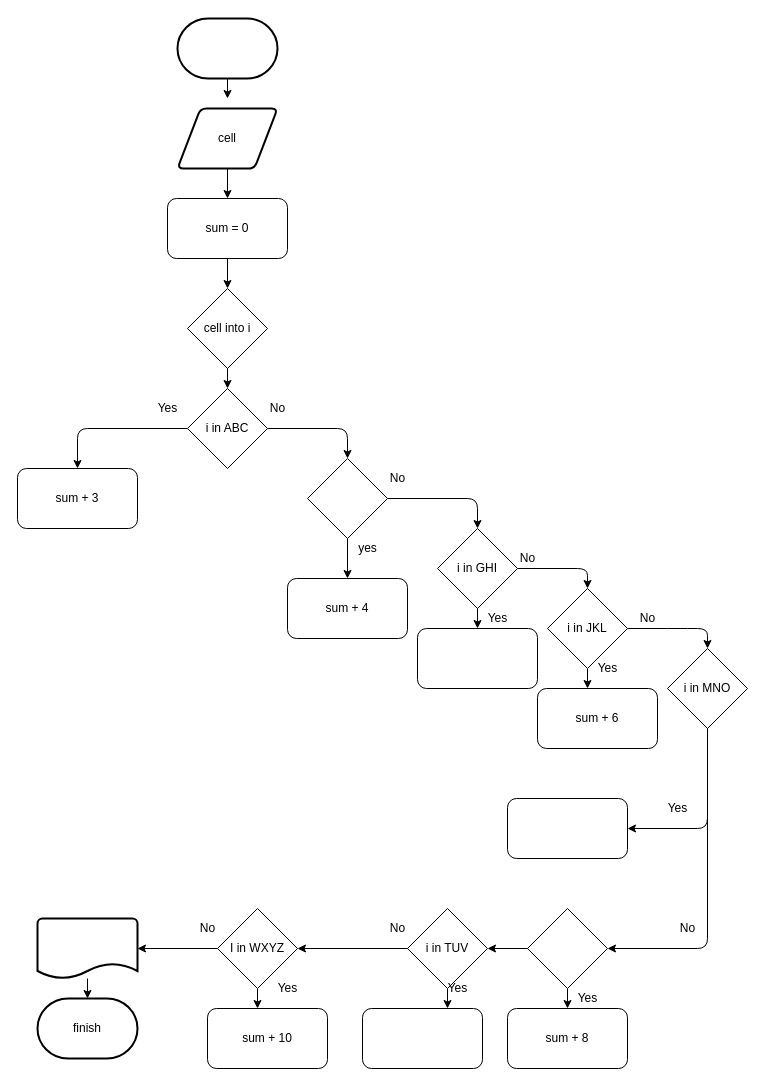
This 765x1086 diagram has some shape labels left out. The shapes that lost their labels are listed below. From the top down, each one's centre as x and y in pixels, then its label:
At point 227,48: "start".
At point 347,498: "i in DEF".
At point 477,658: "sum + 5".
At point 567,828: "sum + 7".
At point 87,948: "sum".
At point 567,948: "i in PQRS".
At point 422,1038: "sum + 9".
